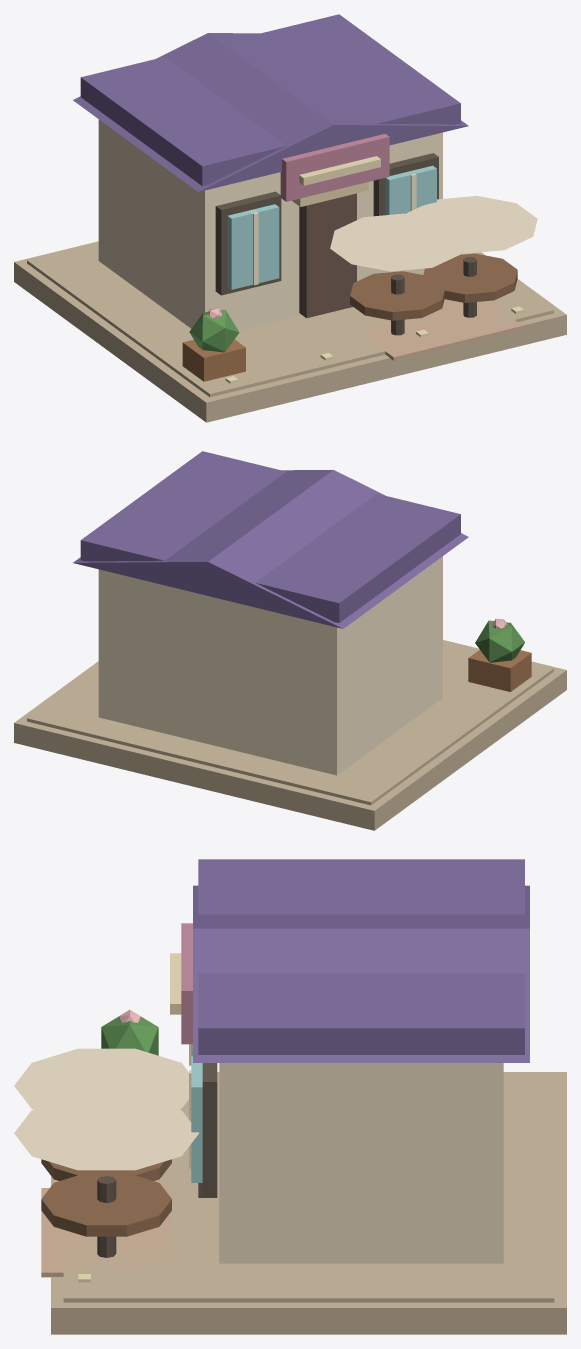
File: cafe-lv1.obj
The picture shows the model from 3 angles, top to bottom: view 1: azimuth 30°, elevation 25°; view 2: azimuth 150°, elevation 25°; view 3: azimuth 270°, elevation 25°; orthographic projection. The views are drawn at different scales.
Parts seen in each view (by area): view 1: cafe_3, cafe_0, cafe_2, cafe_15, cafe_13, cafe_4, cafe_8, cafe_12, cafe_10, cafe_7, cafe_16, cafe_17 (+4 smaller); view 2: cafe_2, cafe_3, cafe_0, cafe_16, cafe_17; view 3: cafe_3, cafe_2, cafe_0, cafe_15, cafe_13, cafe_12, cafe_7, cafe_17, cafe_10, cafe_8, cafe_14, cafe_11.
Part boxes in pixels (x1,y1,x2,y2): cafe_3: [73, 14, 468, 191]; cafe_0: [14, 241, 566, 422]; cafe_2: [98, 119, 442, 330]; cafe_15: [330, 196, 537, 271]; cafe_13: [350, 253, 517, 320]; cafe_4: [299, 193, 356, 318]; cafe_8: [227, 165, 436, 289]; cafe_12: [356, 299, 522, 360]; cafe_10: [280, 133, 389, 201]; cafe_7: [215, 153, 438, 295]; cafe_16: [182, 339, 245, 381]; cafe_17: [189, 310, 239, 352]; cafe_2: [98, 556, 442, 775]; cafe_3: [73, 451, 468, 628]; cafe_0: [14, 640, 566, 830]; cafe_16: [468, 650, 531, 691]; cafe_17: [475, 620, 524, 662]; cafe_3: [193, 859, 529, 1062]; cafe_2: [219, 1063, 503, 1263]; cafe_0: [51, 1072, 566, 1334]; cafe_15: [14, 1048, 199, 1170]; cafe_13: [41, 1159, 171, 1236]; cafe_12: [41, 1188, 171, 1277]; cafe_7: [202, 1063, 217, 1196]; cafe_17: [101, 1016, 158, 1055]; cafe_10: [181, 923, 192, 1044]; cafe_8: [191, 1049, 202, 1182]; cafe_14: [97, 1176, 116, 1257]; cafe_11: [170, 953, 181, 1014].
Bounding box in the file's own units: 2.65 × 1.51 × 2.62.
